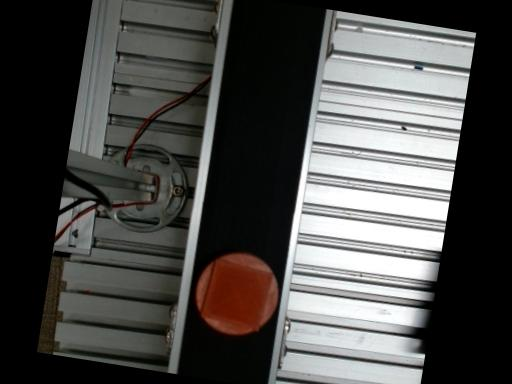Brown_Waper: (195, 251, 278, 333)
Square: (200, 257, 274, 329)
